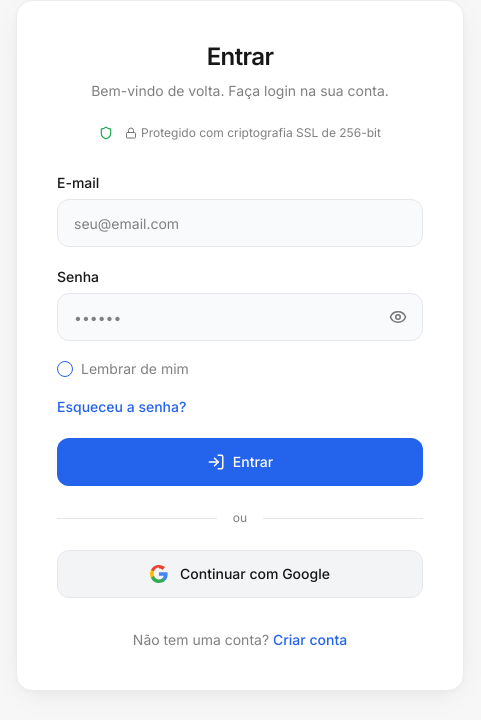
Test case: LoginForm › valida formato de e-mail
The width and height of the screenshot is (481, 720).
In the field labelled "E-mail": (240, 223) [57,199,423,247], type "email-invalido"
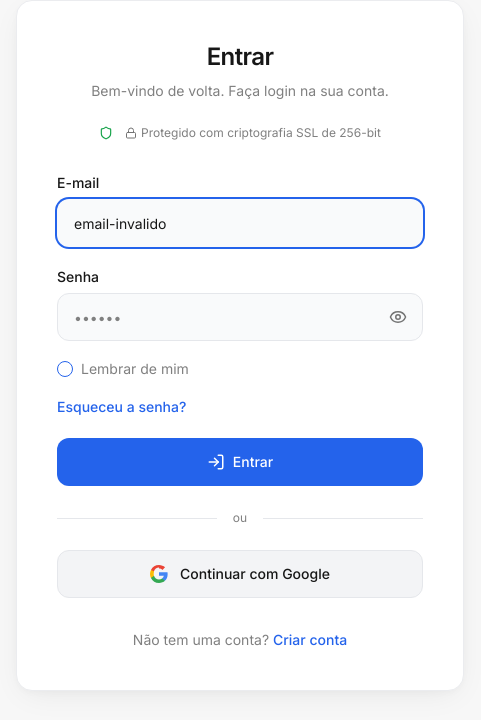
Click the button "Entrar": (240, 462) [57,438,423,486]
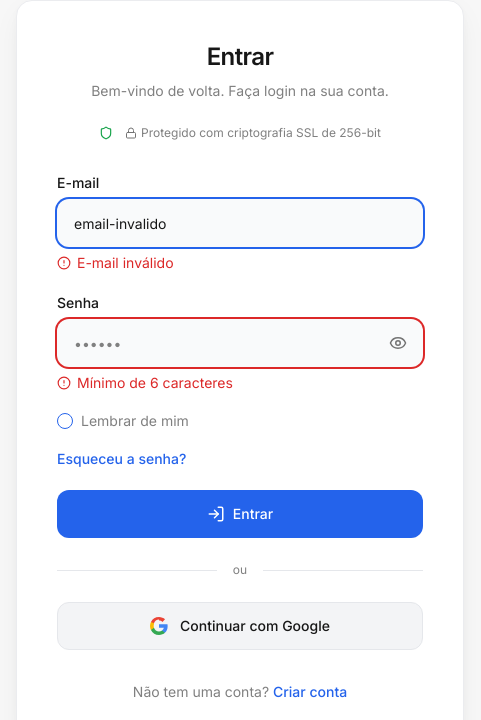
expect the text "E-mail inválido" is shown: met, box [57,254,174,271]
